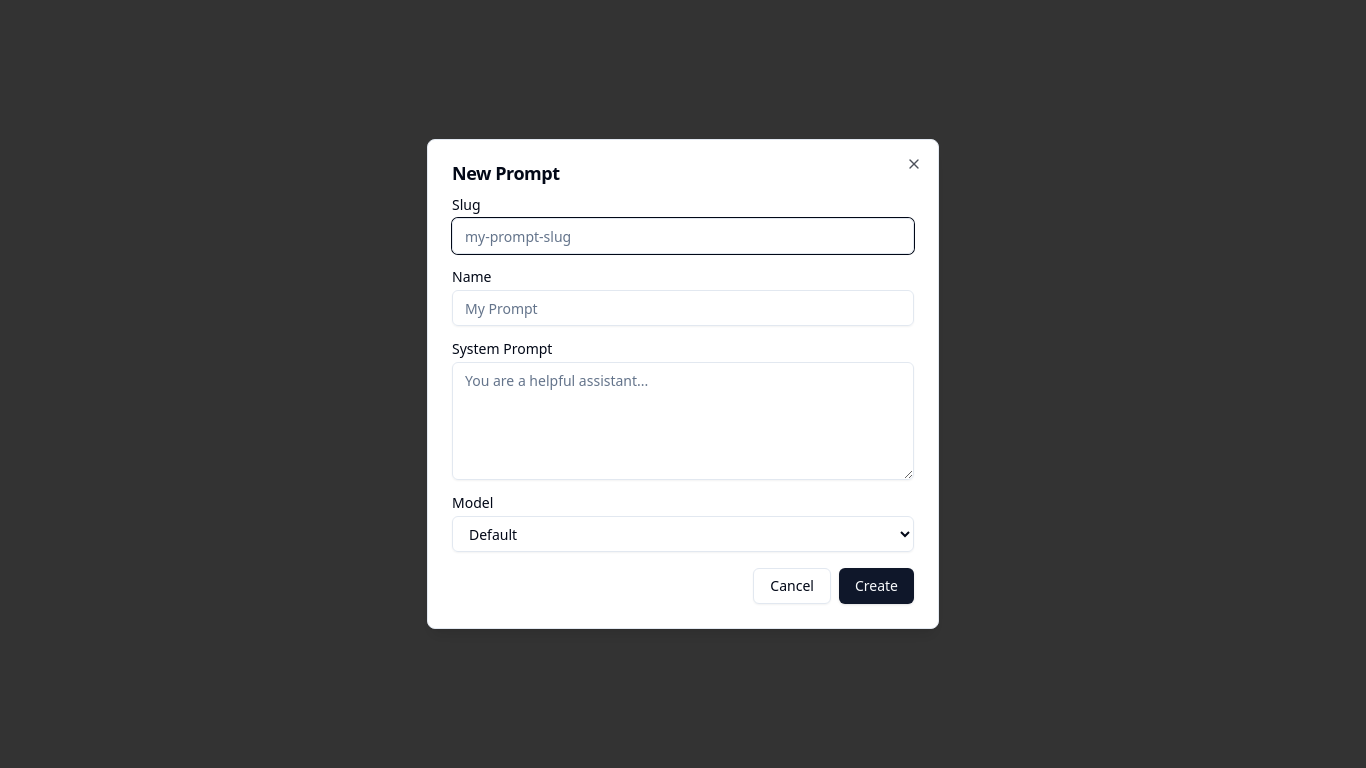
Test: PromptDialog › shows error message on duplicate slug (409)
Type "existing" into the field labelled "Slug" at (683, 236), box left=452, top=218, right=914, bottom=254
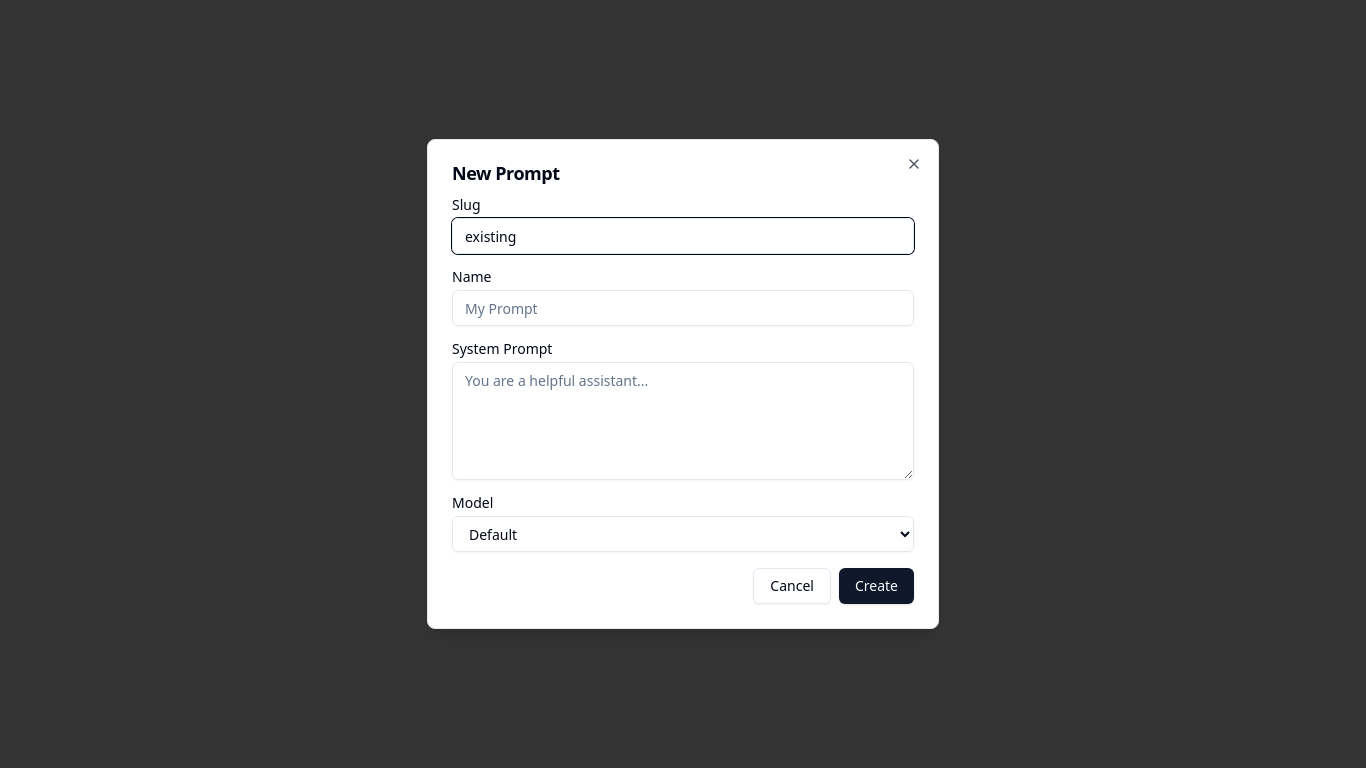
Type "Existing" into the field labelled "Name" at (683, 308), box left=452, top=290, right=914, bottom=326
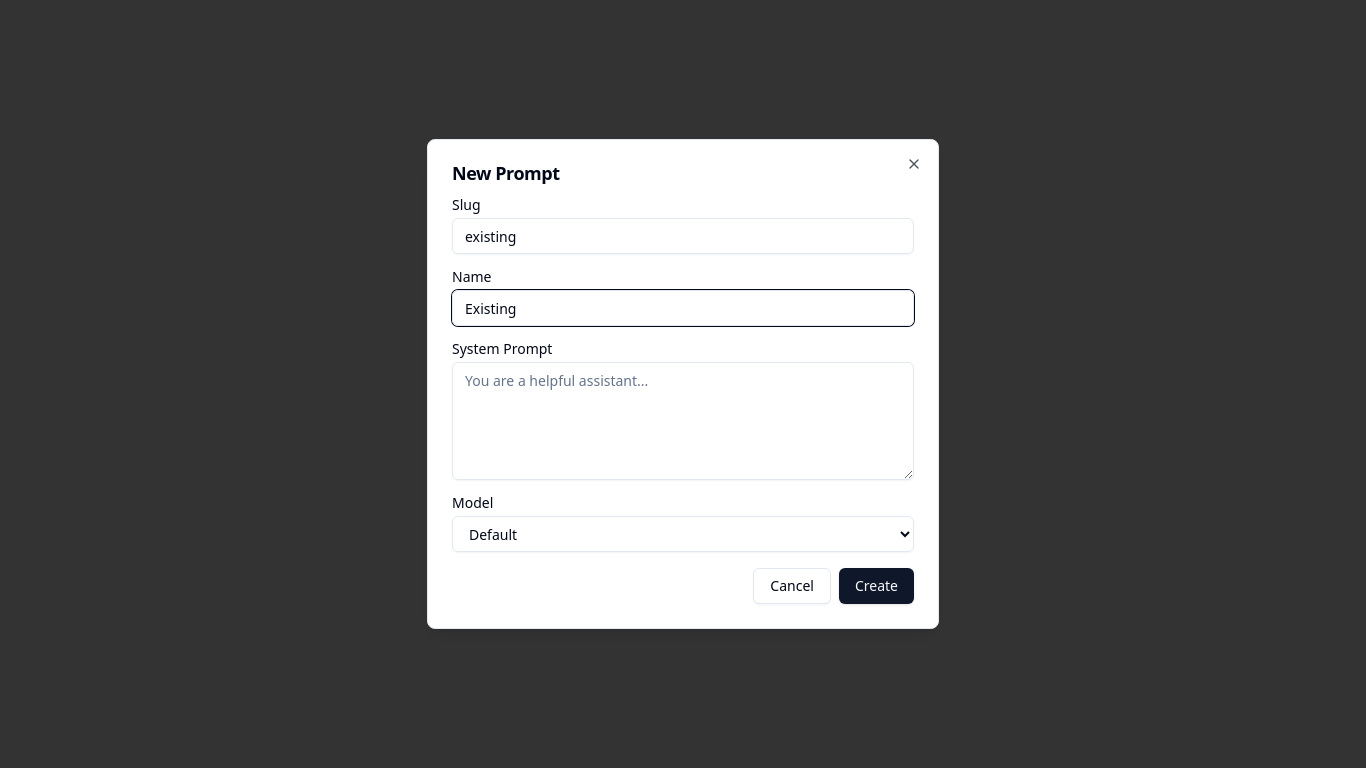
Type "System prompt." into the text box labelled "System Prompt" at (683, 421), box left=452, top=362, right=914, bottom=480
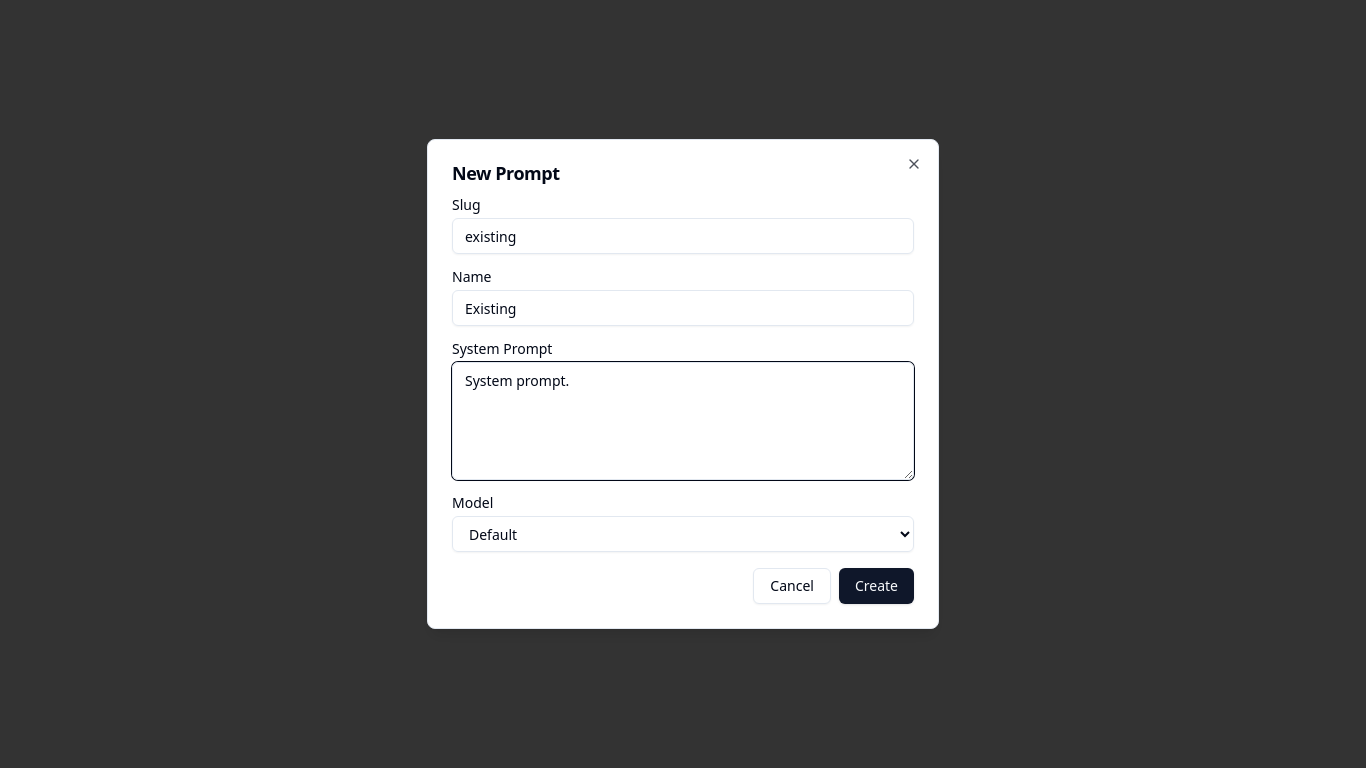
Click the button "Create" at (876, 586), box left=839, top=568, right=914, bottom=604
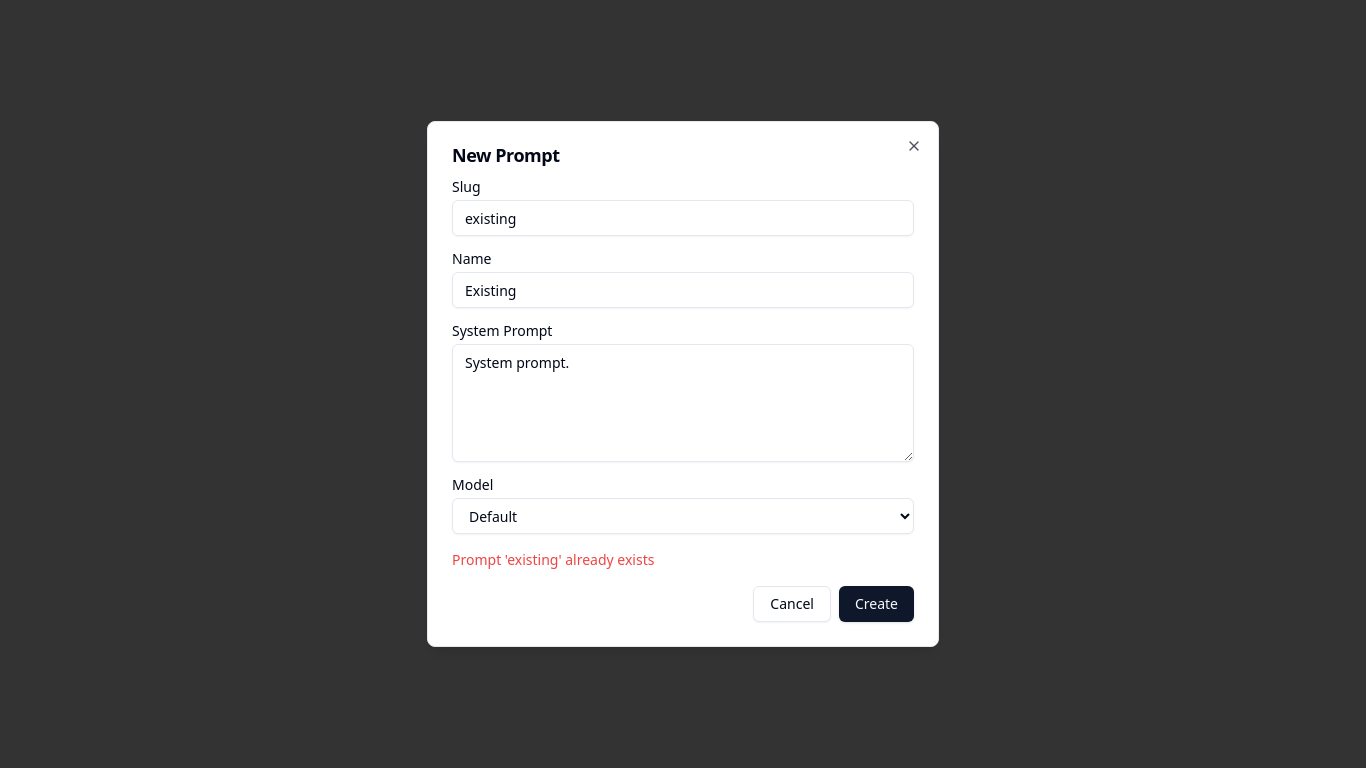
Result: the text "Prompt 'existing' already exists" is shown at left=452, top=550, right=654, bottom=569
